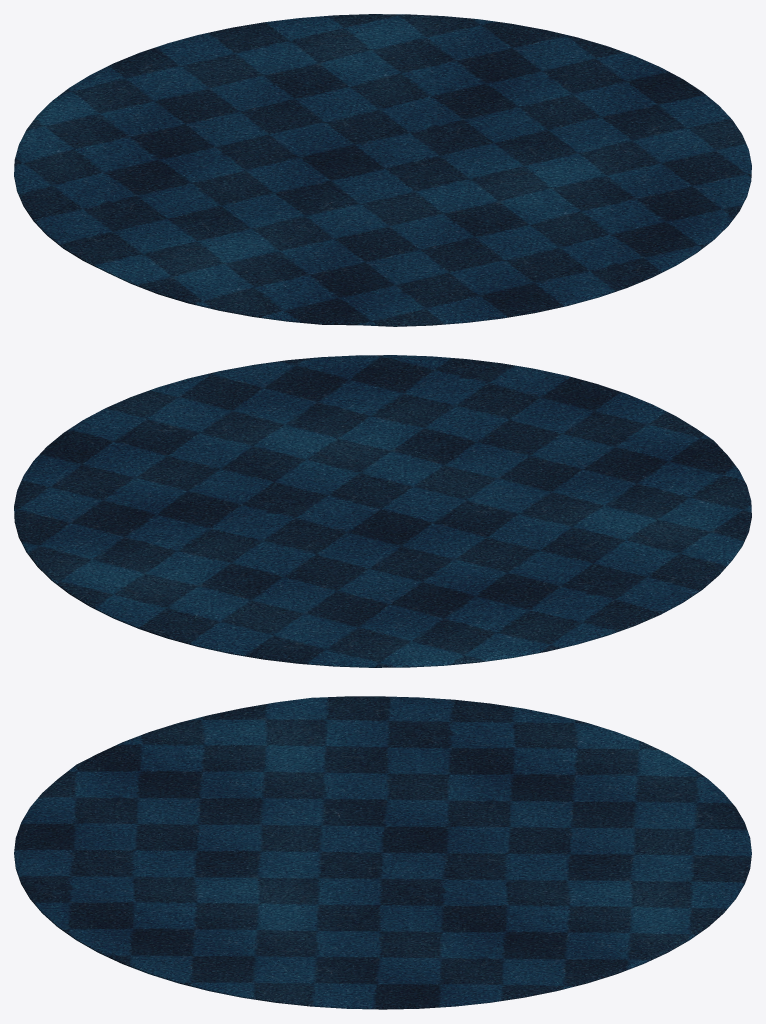
File: round_carpet.gltf
3 renders of one model, top to bottom at view 1: azimuth 30°, elevation 25°; view 2: azimuth 150°, elevation 25°; view 3: azimuth 270°, elevation 25°, orthographic.
Visible parts, largest first — view 1: Tappeto_0; view 2: Tappeto_0; view 3: Tappeto_0.
Part boxes in pixels (bbox=[...]): Tappeto_0: bbox=[14, 14, 751, 326]; Tappeto_0: bbox=[14, 355, 751, 667]; Tappeto_0: bbox=[14, 696, 751, 1009].
Bounding box in the file's own units: 3.25 × 0.0167 × 3.25.
Materials: 1 (1 with a texture image).
